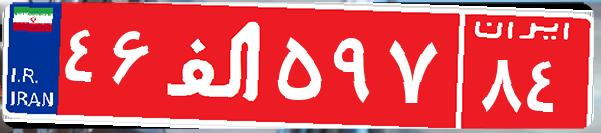4: (57, 26, 110, 107), (525, 38, 570, 115)
5: (273, 28, 330, 110)
6: (110, 28, 158, 105)
7: (385, 28, 445, 110)
8: (475, 38, 525, 113)
9: (330, 28, 385, 110)
الف: (158, 15, 273, 115)
